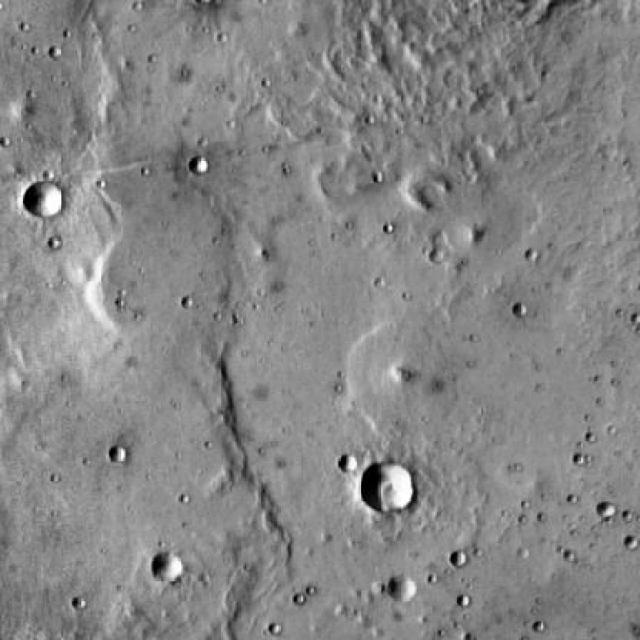crater: (360, 464, 414, 516), (24, 180, 65, 220), (153, 552, 185, 583), (388, 574, 415, 600), (188, 155, 206, 174), (342, 454, 361, 472), (111, 444, 129, 462), (596, 502, 612, 518)
